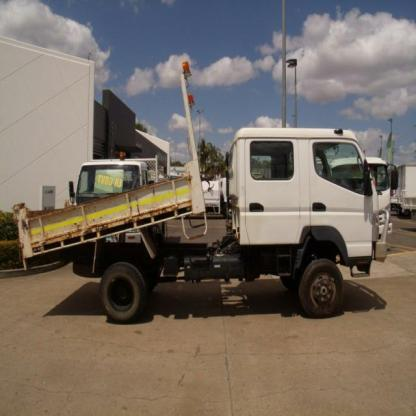truck: (15, 62, 393, 324)
